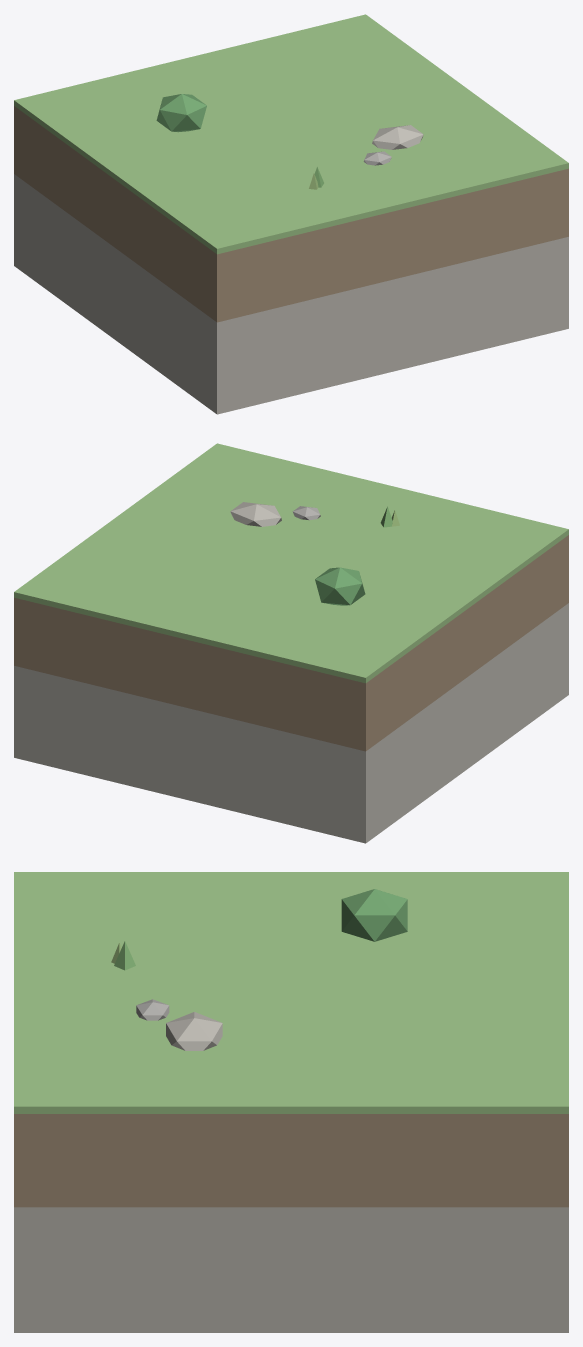
Rendered from terreno__morro.glb.
3 views of the same model, one above another, from view 1: azimuth 30°, elevation 25°; view 2: azimuth 150°, elevation 25°; view 3: azimuth 270°, elevation 25° (orthographic). The views are drawn at different scales.
Parts seen in each view (by area): view 1: terreno__morro; view 2: terreno__morro; view 3: terreno__morro.
Boxes of the visible parts, left/top/right/bottom form: terreno__morro: left=14, top=14, right=568, bottom=414; terreno__morro: left=14, top=443, right=568, bottom=843; terreno__morro: left=14, top=872, right=568, bottom=1332.
Bounding box in the file's own units: 2 × 1.09 × 2.
